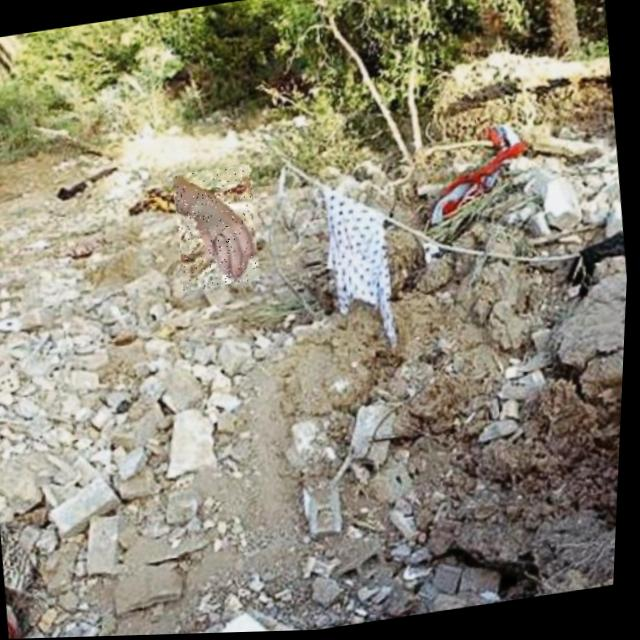Person in Rubble: (171, 164, 266, 293)
